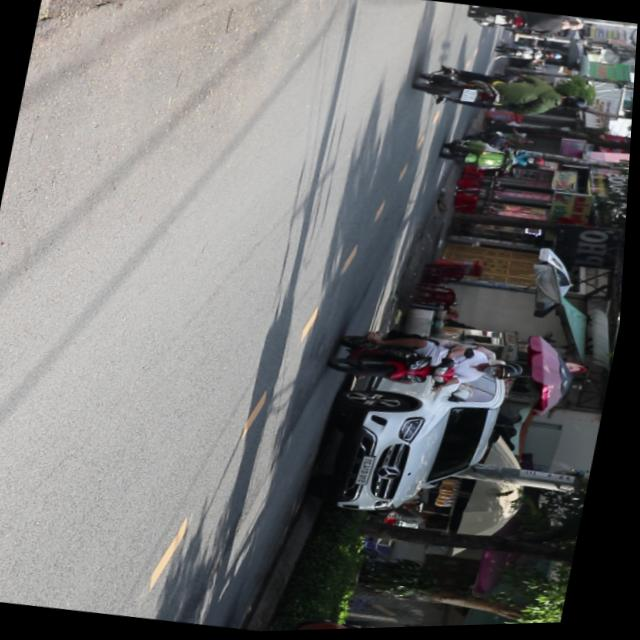helmet: (486, 362, 531, 387)
licenseplate: (330, 320, 535, 408)
